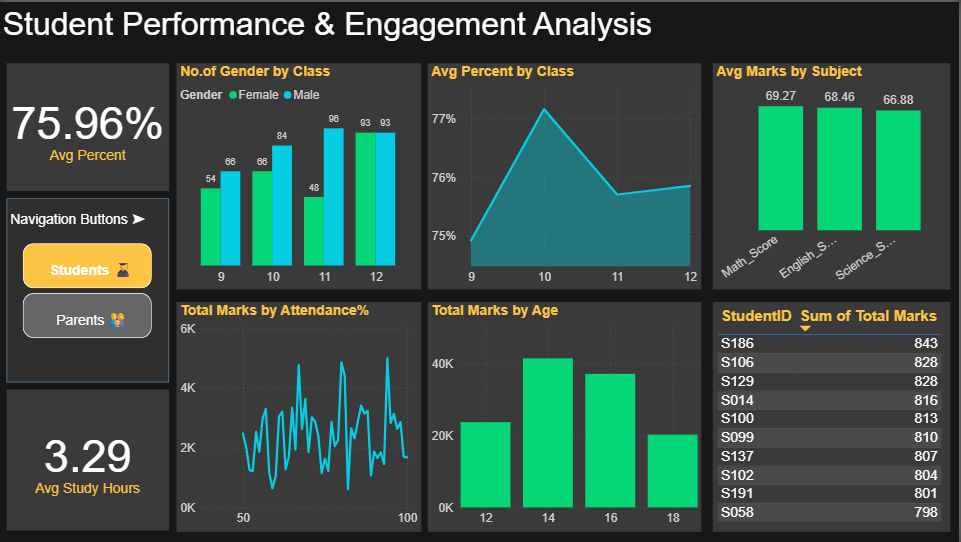

The dashboard page shown, as its layout file describes it:
{"tool":"powerbi","page":{"name":"Students 🧑🎓","canvas":[1280,720],"ordinal":0},"visuals":[{"type":"textbox","box":[0,0,1280,71.4],"z":0},{"type":"clusteredColumnChart","title":"No.of Gender by Class","fields":{"Category":["student_performance_dataset.Class"],"Series":["student_performance_dataset.Gender"],"Y":["CountNonNull(student_performance_dataset.Gender)"]},"box":[236,82.3,326.6,301.9],"z":1000},{"type":"areaChart","fields":{"Category":["student_performance_dataset.Class"],"Y":["student_performance_dataset.Avg"]},"box":[572.2,82.3,365,301.9],"z":2000},{"type":"lineChart","title":"Total Marks by Attendance%","fields":{"Category":["student_performance_dataset.Attendance%"],"Y":["Sum(student_performance_dataset.Total Marks)"]},"box":[236,399.3,326.6,306],"z":3000},{"type":"columnChart","title":"Total Marks by Age ","fields":{"Category":["student_performance_dataset.Age (bins) 2"],"Y":["Sum(student_performance_dataset.Total Marks)"]},"box":[572.2,399.3,365,306],"z":4000},{"type":"tableEx","fields":{"Values":["student_performance_dataset.StudentID","Sum(student_performance_dataset.Total Marks)"]},"box":[950.9,399.3,317,306],"z":5000},{"type":"clusteredColumnChart","fields":{"Category":["student_performance_dataset.Subject"],"Y":["student_performance_dataset.Avg Marks"]},"box":[950.9,82.3,317,301.9],"z":6000},{"type":"shape","box":[9.6,262.1,216.8,245.6],"z":6001},{"type":"textbox","box":[9.6,271.7,194.9,37],"z":6002},{"type":"pageNavigator","box":[31.6,321.1,172.9,127.6],"z":6003},{"type":"card","fields":{"Values":["student_performance_dataset.Avg Percent"]},"box":[9.6,82.3,216.8,170.2],"z":6004},{"type":"card","fields":{"Values":["student_performance_dataset.Avg Study"]},"box":[9.6,517.3,216.8,188],"z":6005}]}

Visuals, with their boxes in screenshot pixels (x1, y1, x2, y2), scaled from the page's 1280x720 canvas onto the 961x542 screenshot:
textbox: crop(0, 0, 960, 54)
"No.of Gender by Class" clusteredColumnChart: crop(177, 62, 422, 289)
areaChart - student_performance_dataset.Class x student_performance_dataset.Avg: crop(430, 62, 704, 289)
"Total Marks by Attendance%" lineChart: crop(177, 301, 422, 531)
"Total Marks by Age " columnChart: crop(430, 301, 704, 531)
tableEx - student_performance_dataset.StudentID x Sum(student_performance_dataset.Total Marks): crop(714, 301, 952, 531)
clusteredColumnChart - student_performance_dataset.Subject x student_performance_dataset.Avg Marks: crop(714, 62, 952, 289)
shape: crop(7, 197, 170, 382)
textbox: crop(7, 205, 154, 232)
pageNavigator: crop(24, 242, 154, 338)
card - student_performance_dataset.Avg Percent: crop(7, 62, 170, 190)
card - student_performance_dataset.Avg Study: crop(7, 389, 170, 531)
